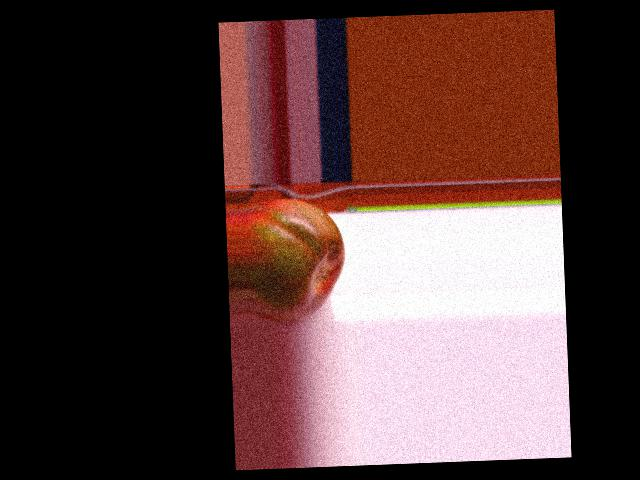tomato: (247, 196, 347, 321)
